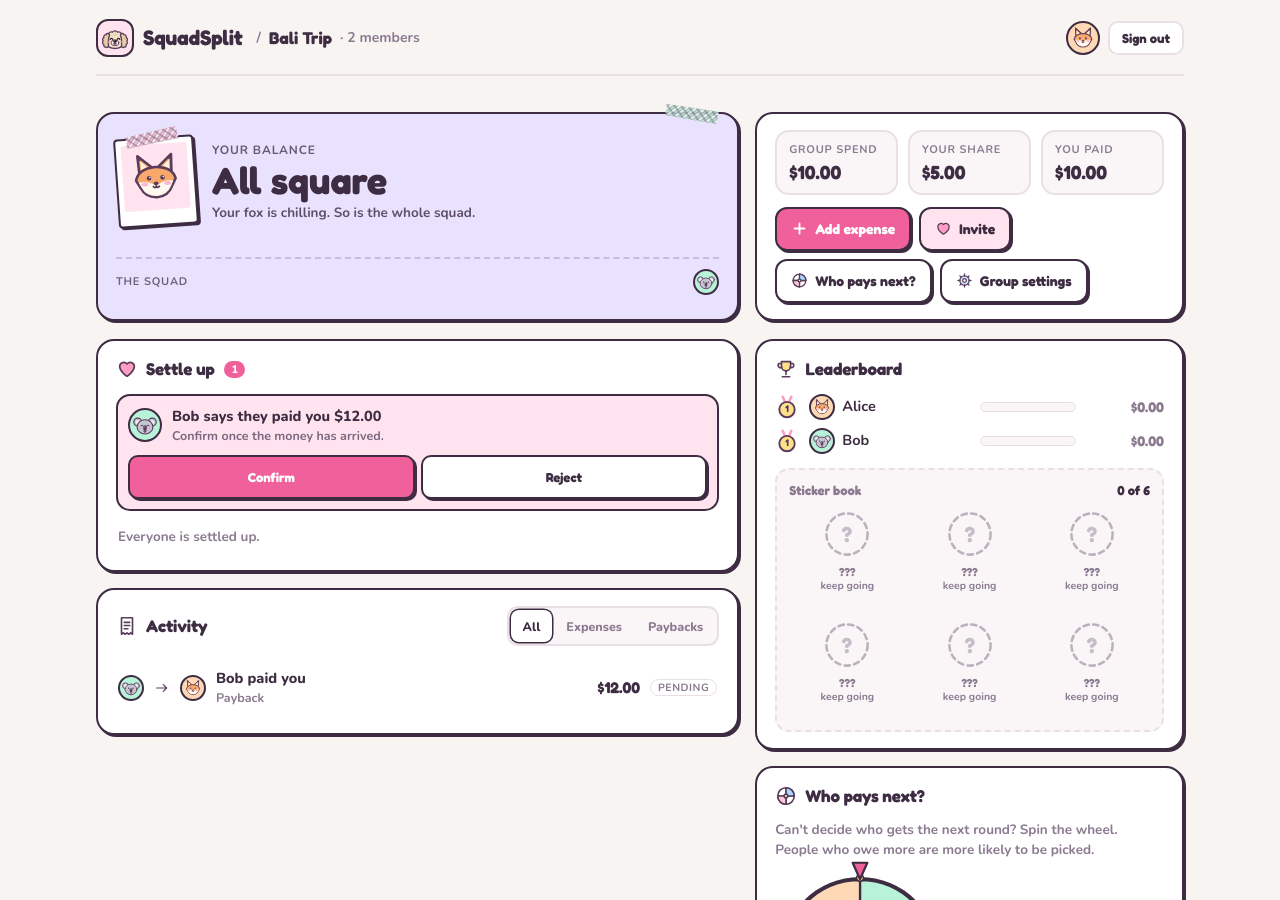
PAID stamp › thunks onto the payback slip after the cheer, and a newly earned Good Egg slaps on, when you confirm
This screenshot has width=1280, height=900.
expect the text "pending" is shown: met, box [650,679,717,696]
Click the button "Confirm" at (271, 477), box [128,455,415,499]
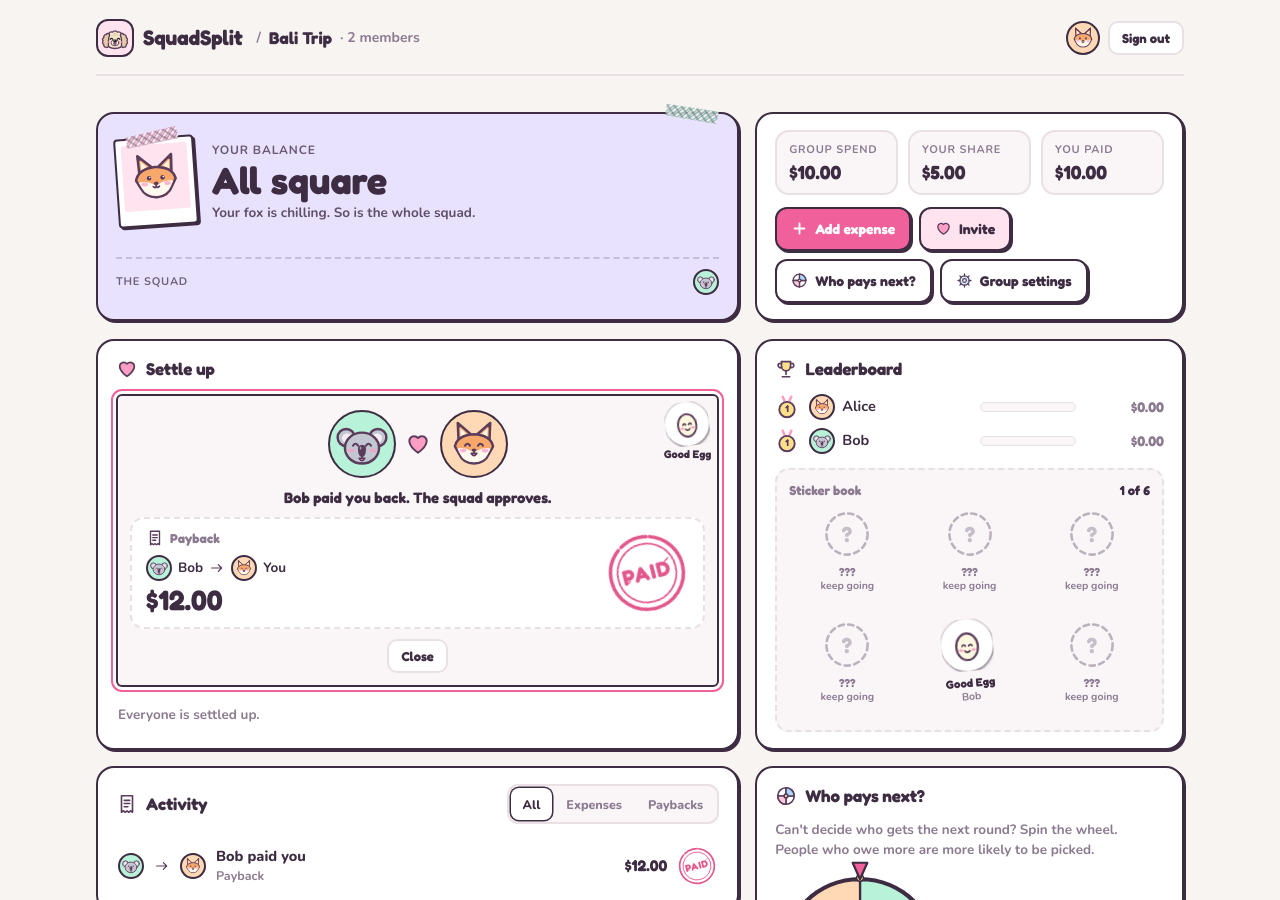
expect the text with class "slip-amt" reads "$12.00": met, box [146,583,223,617]
expect the 1st text "Good Egg" is shown: met, box [664,448,711,460]
expect the element with class "slap" shows "Good Egg": met, box [946,673,996,692]
